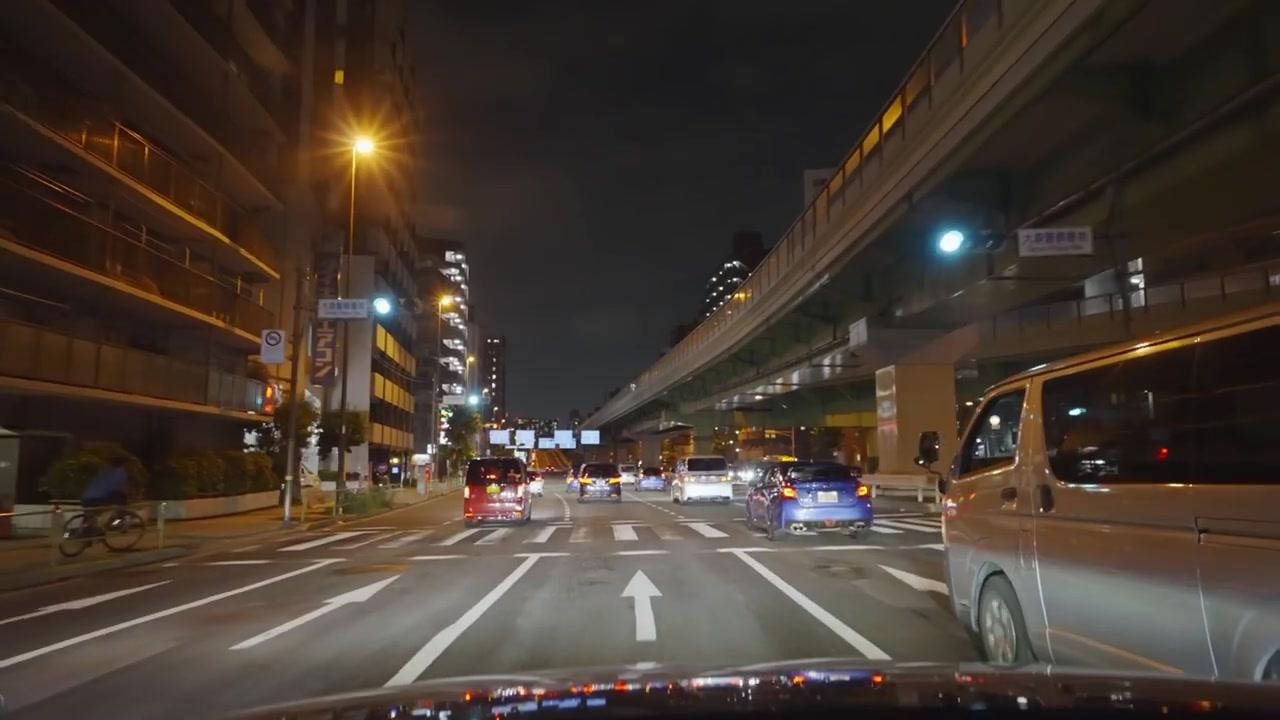bicycle: (56, 501, 147, 559)
bus: (463, 456, 533, 524)
car: (916, 312, 1278, 683), (749, 459, 875, 541), (463, 457, 533, 525), (670, 455, 735, 504), (743, 461, 788, 527), (578, 461, 622, 501), (636, 472, 668, 491), (527, 475, 547, 498), (621, 465, 639, 486)
person: (81, 457, 131, 532)
truck: (463, 456, 533, 523)
